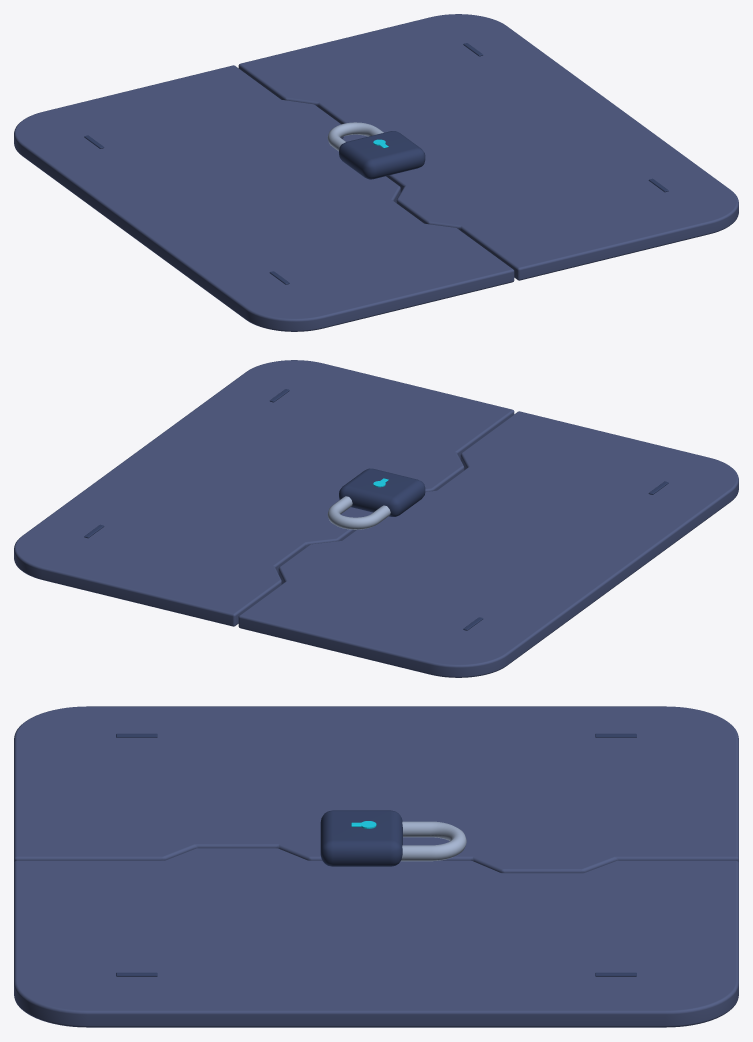
File: Astro_Flow_Jam_Simple_Reward_Door.fbx
3 renders of one model, top to bottom at view 1: azimuth 30°, elevation 25°; view 2: azimuth 150°, elevation 25°; view 3: azimuth 270°, elevation 25°, orthographic. The views are drawn at different scales.
Parts seen in each view (by area): view 1: Left_Panel, Right_Panel, Lock_Body.002, Simple_Shackle; view 2: Left_Panel, Right_Panel, Lock_Body.002, Simple_Shackle; view 3: Right_Panel, Left_Panel, Lock_Body.002, Simple_Shackle.
Boxes of the visible parts, x1,y1,x2,y2 form: Left_Panel: (14, 65, 514, 331); Right_Panel: (238, 14, 738, 280); Lock_Body.002: (339, 131, 425, 179); Simple_Shackle: (327, 122, 383, 151); Left_Panel: (238, 411, 738, 677); Right_Panel: (14, 360, 514, 626); Lock_Body.002: (339, 468, 425, 516); Simple_Shackle: (327, 496, 390, 529); Right_Panel: (14, 848, 738, 1027); Left_Panel: (14, 706, 738, 872); Lock_Body.002: (320, 810, 402, 866); Simple_Shackle: (401, 821, 466, 861).
Size of the model in its own units: 590 by 45.9 by 590.
